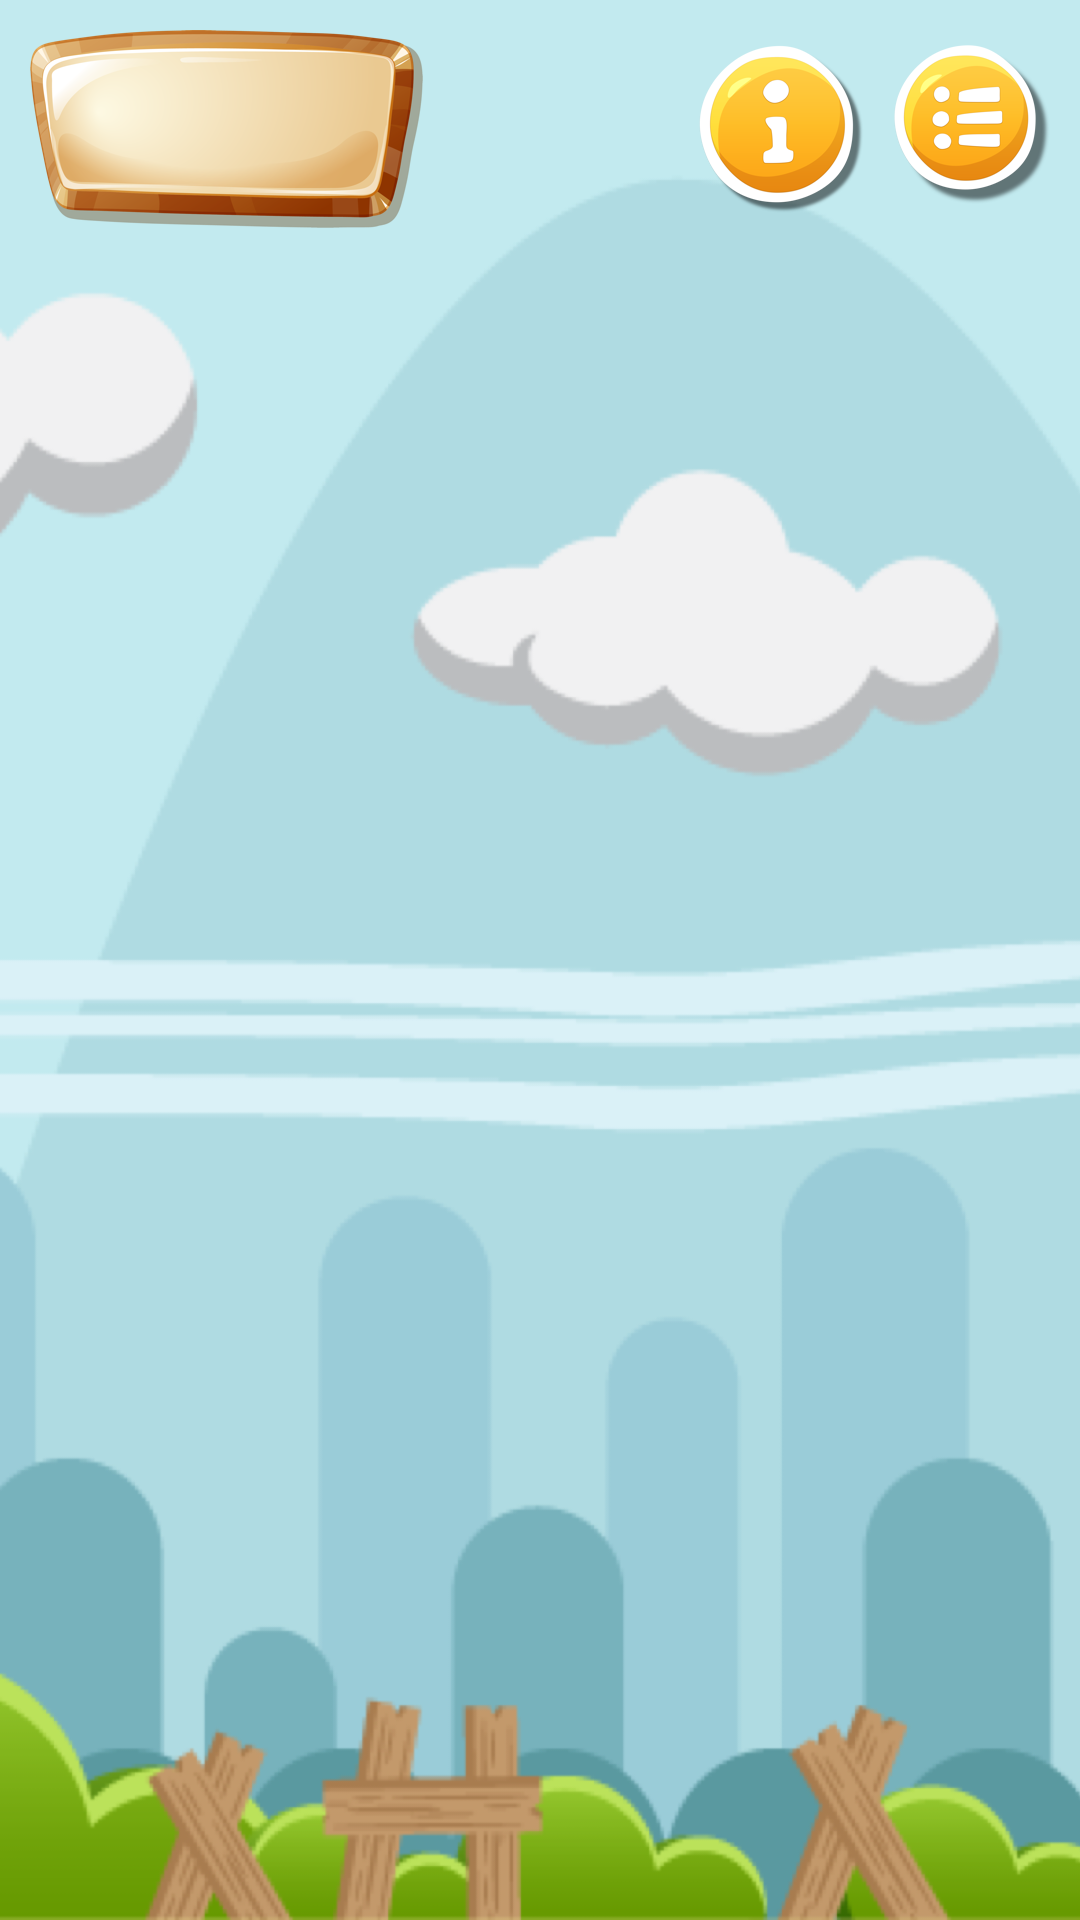

Point at icon controls on the screen. Image size 1080x1920, points as (x,y).
instruction: (780,129)
menu: (970,123)
